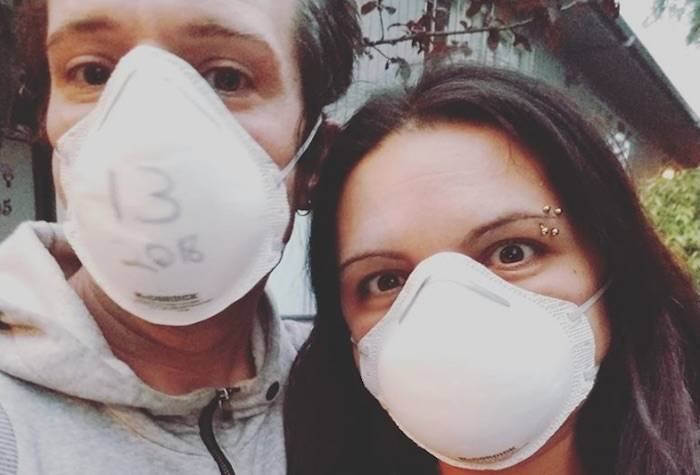n95: (40, 53, 296, 327), (350, 251, 600, 466)
